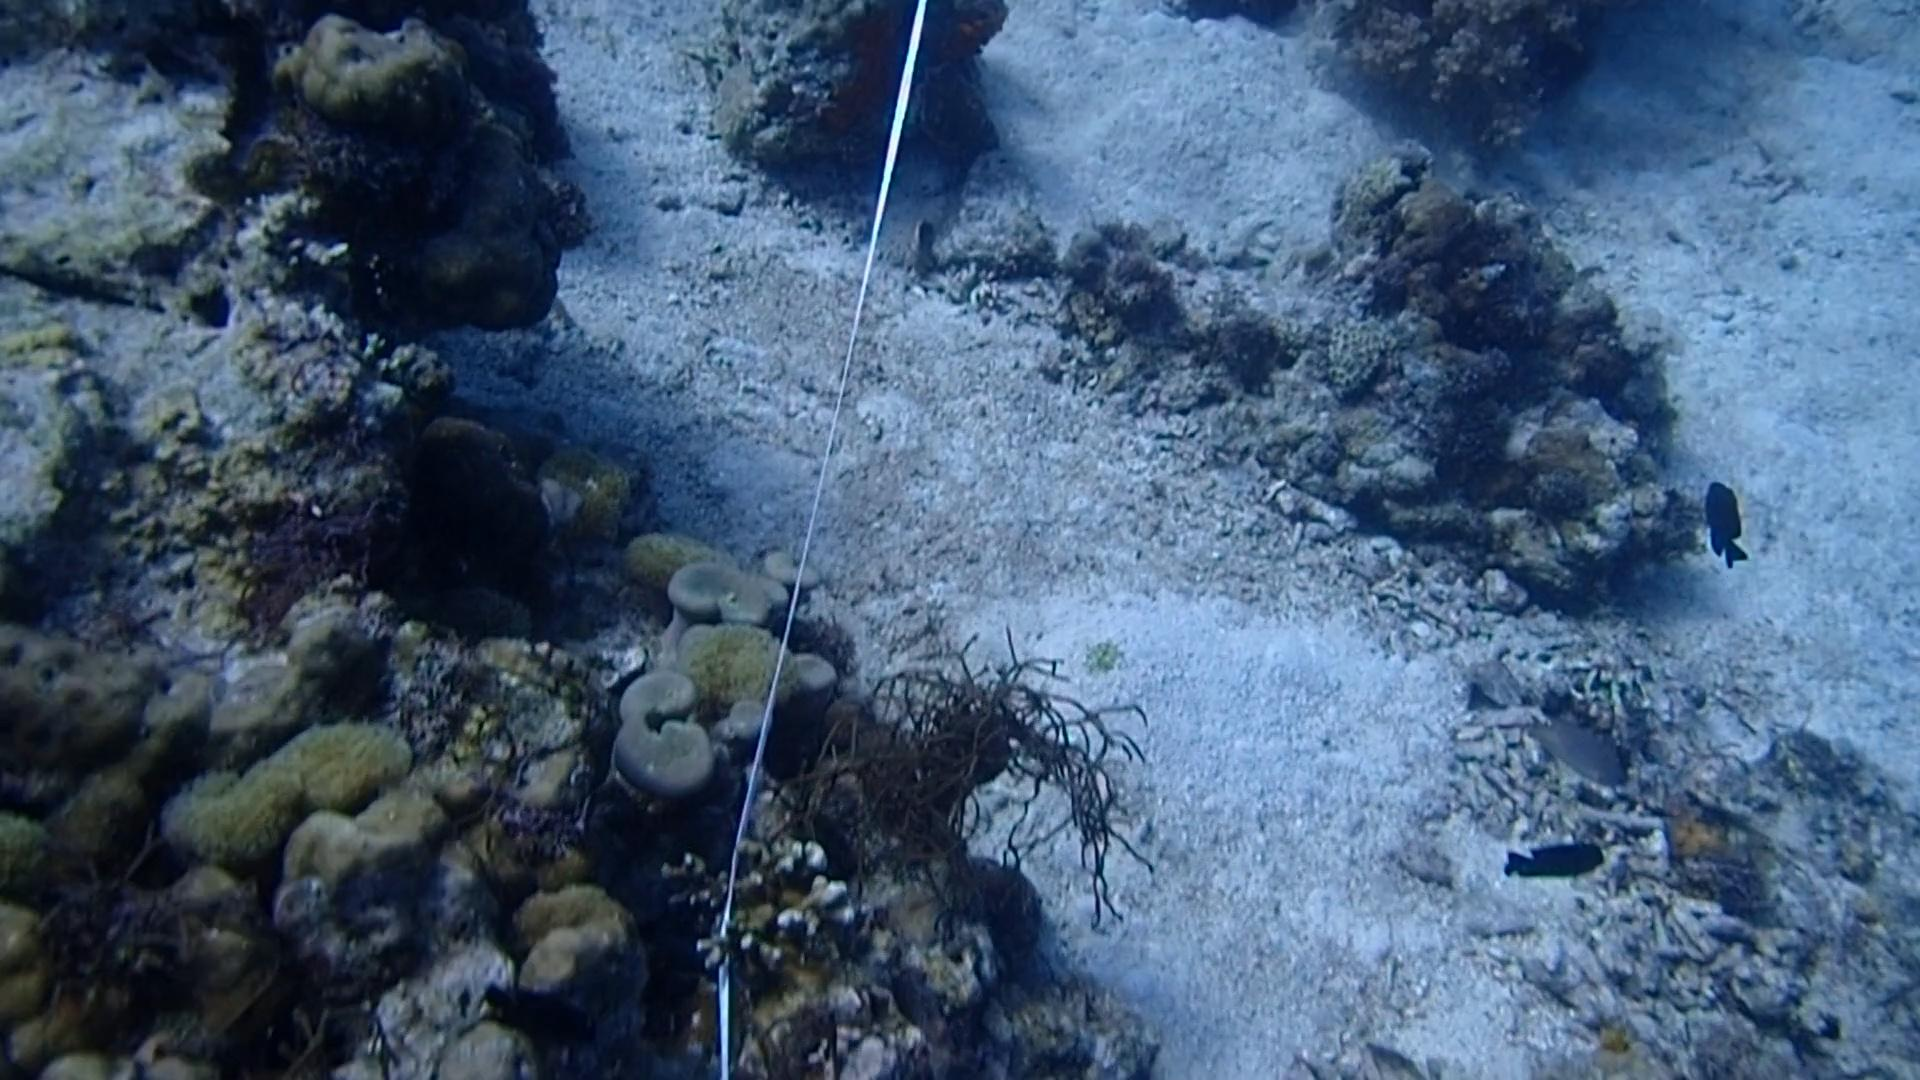Dark Fish: (1693, 469, 1759, 575), (1498, 836, 1615, 885)
Light Fish: (1526, 709, 1625, 791)
